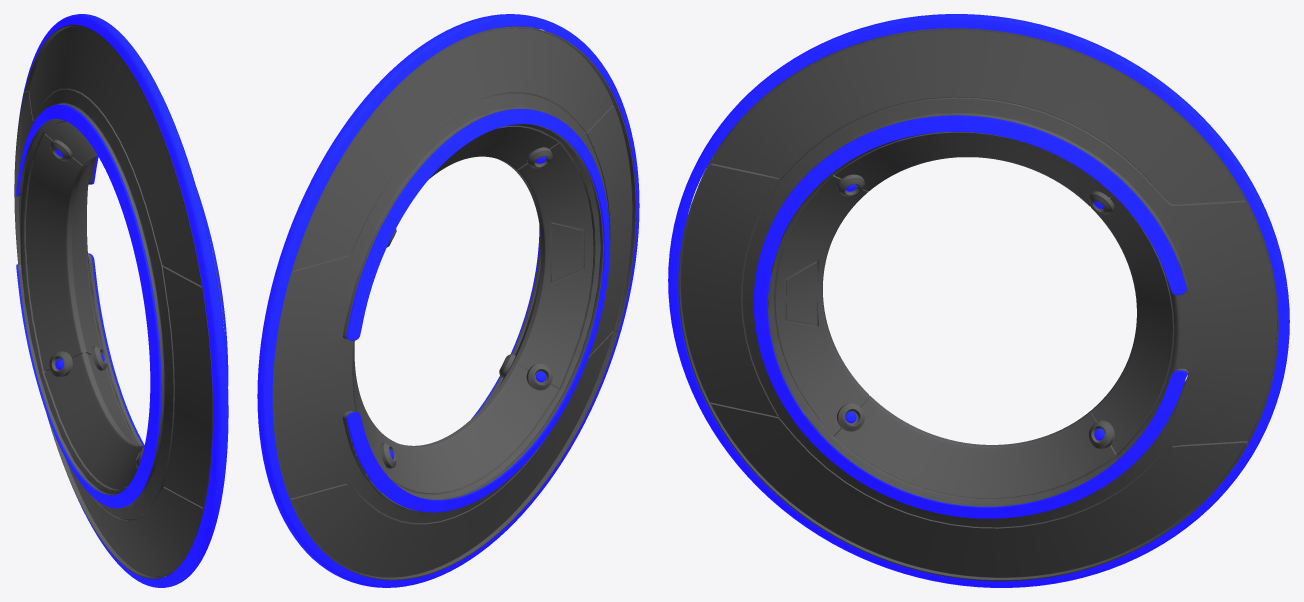
The model's file is disk.fbx.
3 views of the same model, side by side, from view 1: azimuth 30°, elevation 25°; view 2: azimuth 150°, elevation 25°; view 3: azimuth 270°, elevation 25° (orthographic). The views are drawn at different scales.
Visible parts, largest first — view 1: Disc_2; view 2: Disc_2; view 3: Disc_2.
Boxes of the visible parts, x1=… form: Disc_2: x1=14, y1=14, x2=228, y2=587; Disc_2: x1=257, y1=14, x2=639, y2=587; Disc_2: x1=668, y1=14, x2=1289, y2=587.
Size of the model in its own units: 48.93 by 199 by 196.
